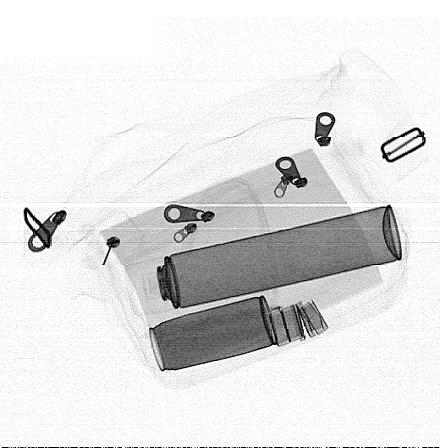Sprayer: (124, 205, 402, 316)
